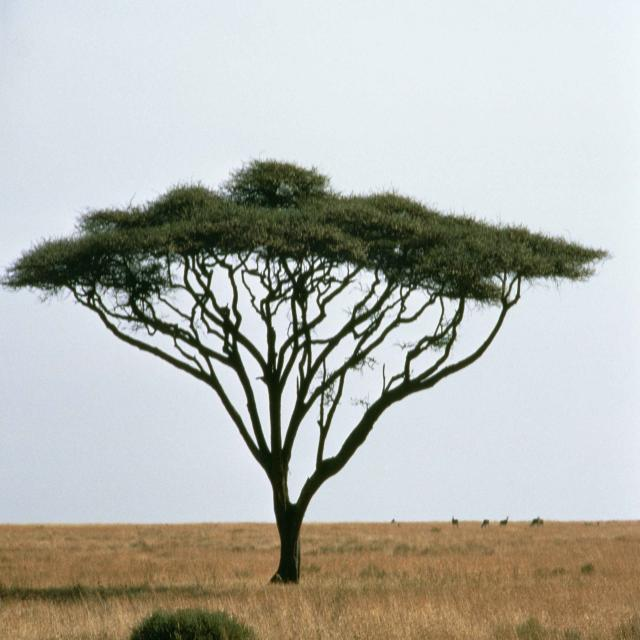Acacia: (9, 126, 612, 559)
